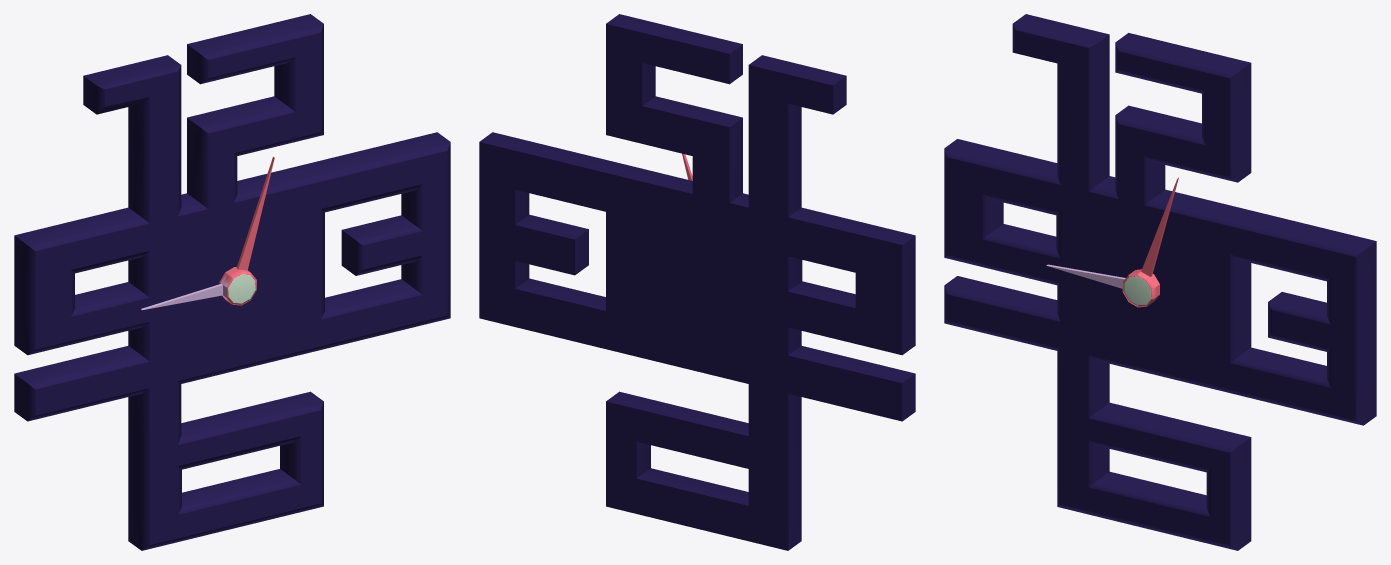
Rendered from clock.fbx.
The picture shows the model from 3 angles, left to right: view 1: azimuth 30°, elevation 25°; view 2: azimuth 150°, elevation 25°; view 3: azimuth 330°, elevation 25°; orthographic projection.
Parts seen in each view (by area): view 1: pPlane2; view 2: pPlane2; view 3: pPlane2.
Part boxes in pixels (x1,y1,x2,y2): pPlane2: (14, 14, 450, 550); pPlane2: (479, 14, 915, 550); pPlane2: (944, 14, 1376, 550).
Bounding box in the file's own units: 52.59 × 57.34 × 4.94.
